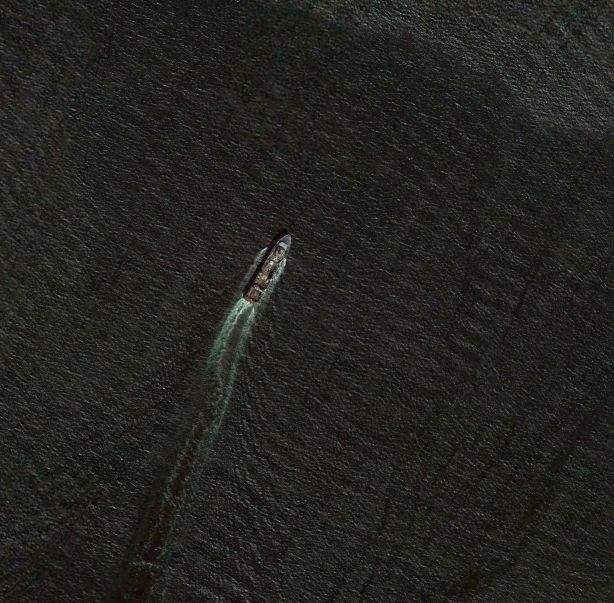boat: (240, 227, 295, 306)
